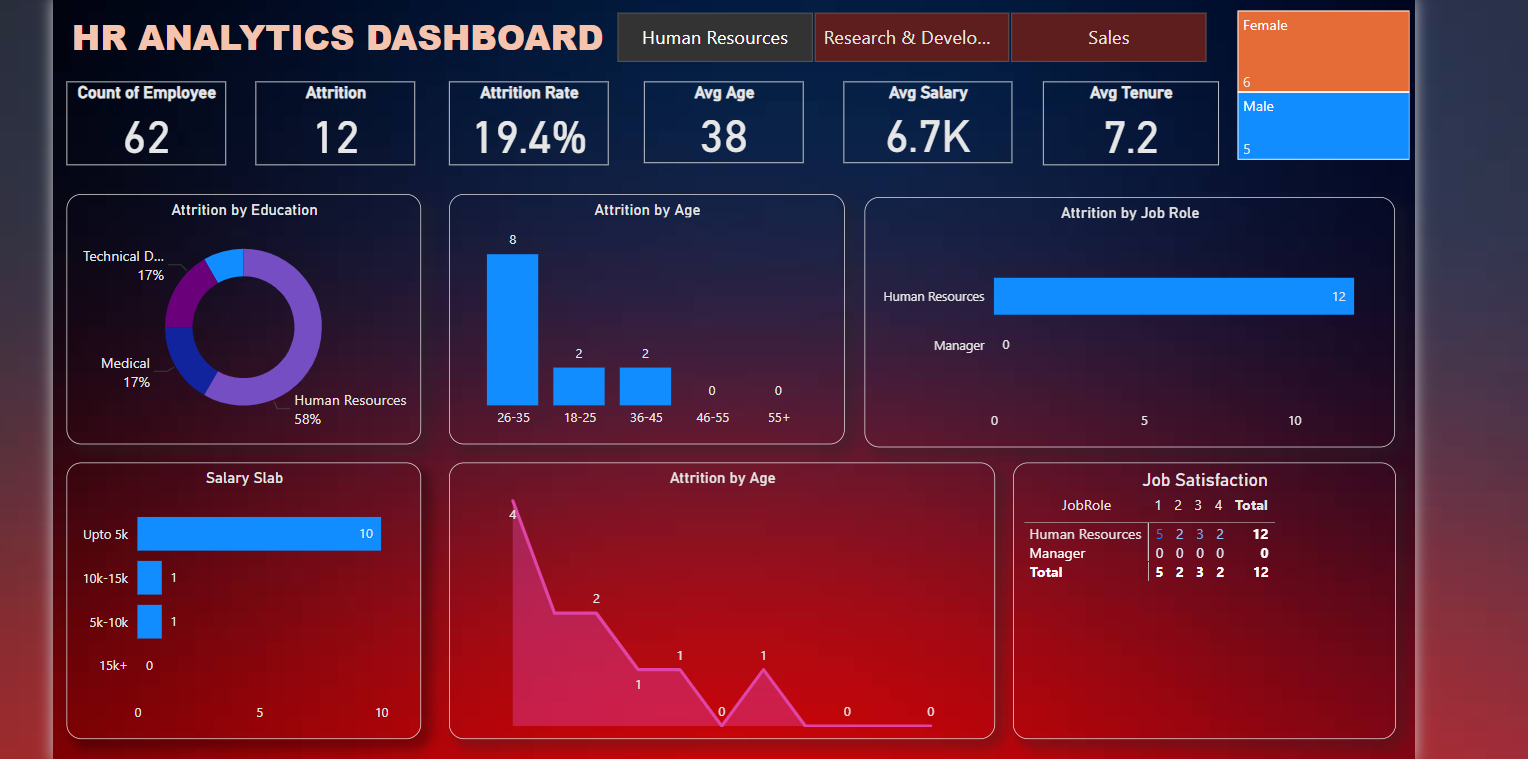

What the dashboard file says about the page in this screenshot:
{"tool":"powerbi","page":{"name":"Page 1","canvas":[1280,720],"ordinal":0},"visuals":[{"type":"card","title":"Count of Employee","fields":{"Values":["CountNonNull(HR_Analytics.EmpID)"]},"box":[13.3,80,150,78.3],"z":0},{"type":"card","title":"Attrition  ","fields":{"Values":["Sum(HR_Analytics.AttritionCount)"]},"box":[190,80,150,78.3],"z":1000},{"type":"card","title":"Attrition Rate","fields":{"Values":["HR_Analytics.AttritionRate"]},"box":[371.7,80,150,78.3],"z":2000},{"type":"card","title":"Avg Age","fields":{"Values":["HR_Analytics.AverageAge"]},"box":[555,80,150,76.7],"z":3000},{"type":"card","title":"Avg Salary","fields":{"Values":["Avg(HR_Analytics.MonthlyIncome)"]},"box":[743.3,80,158.3,76.7],"z":4000},{"type":"card","title":"Avg Age","fields":{"Values":["Avg(HR_Analytics.YearsAtCompany)"]},"box":[930,80,165,78.3],"z":5000},{"type":"donutChart","title":"Attrition  by Education","fields":{"Category":["HR_Analytics.EducationField"],"Y":["Sum(HR_Analytics.AttritionCount)"]},"box":[13.3,186.7,333.3,235],"z":6000},{"type":"columnChart","title":"Attrition  by Age","fields":{"Category":["HR_Analytics.AgeGroup"],"Y":["Sum(HR_Analytics.AttritionCount)"]},"box":[371.7,186.7,371.7,235],"z":7000},{"type":"pivotTable","title":"Job  Satisfaction","fields":{"Columns":["HR_Analytics.JobSatisfaction"],"Rows":["HR_Analytics.JobRole"],"Values":["Sum(HR_Analytics.AttritionCount)"]},"box":[901.7,438.3,360,260],"z":8000},{"type":"clusteredBarChart","title":"Salary Slab","fields":{"Y":["Sum(HR_Analytics.AttritionCount)"],"Category":["HR_Analytics.SalarySlab"]},"box":[13.3,438.3,333.3,260],"z":9000},{"type":"clusteredBarChart","title":"Attrition  by Job Role","fields":{"Category":["HR_Analytics.JobRole"],"Y":["Sum(HR_Analytics.AttritionCount)"]},"box":[763.3,188.3,498.3,235],"z":10000},{"type":"areaChart","title":"Attrition  by Age","fields":{"Category":["HR_Analytics.YearsAtCompany"],"Y":["Sum(HR_Analytics.AttritionCount)"]},"box":[371.7,438.3,513.3,260],"z":11000},{"type":"treemap","title":"Attrition  by Age","fields":{"Values":["Sum(HR_Analytics.AttritionCount)"],"Group":["HR_Analytics.Gender"]},"box":[1108.3,8.3,171.7,150],"z":12000},{"type":"slicer","fields":{"Values":["HR_Analytics.Department"]},"box":[505,8.3,603.3,60],"z":13000},{"type":"textbox","box":[13.3,10,546.7,60],"z":13001}]}

Visuals, with their boxes on the page's 1280x720 design canvas (x1, y1, x2, y2). These are canvas units, not pixel positions in the 1528x759 screenshot, which may show the page scaled, cropped or inside an application window:
"Count of Employee" card: [left=13, top=80, right=163, bottom=158]
"Attrition  " card: [left=190, top=80, right=340, bottom=158]
"Attrition Rate" card: [left=372, top=80, right=522, bottom=158]
"Avg Age" card: [left=555, top=80, right=705, bottom=157]
"Avg Salary" card: [left=743, top=80, right=902, bottom=157]
"Avg Age" card: [left=930, top=80, right=1095, bottom=158]
"Attrition  by Education" donutChart: [left=13, top=187, right=347, bottom=422]
"Attrition  by Age" columnChart: [left=372, top=187, right=743, bottom=422]
"Job  Satisfaction" pivotTable: [left=902, top=438, right=1262, bottom=698]
"Salary Slab" clusteredBarChart: [left=13, top=438, right=347, bottom=698]
"Attrition  by Job Role" clusteredBarChart: [left=763, top=188, right=1262, bottom=423]
"Attrition  by Age" areaChart: [left=372, top=438, right=885, bottom=698]
"Attrition  by Age" treemap: [left=1108, top=8, right=1280, bottom=158]
slicer - HR_Analytics.Department: [left=505, top=8, right=1108, bottom=68]
textbox: [left=13, top=10, right=560, bottom=70]
